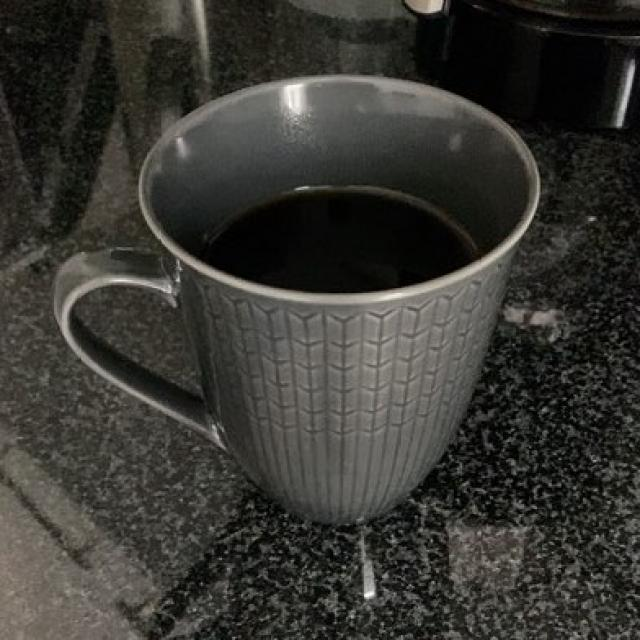coffee: (205, 184, 471, 292)
